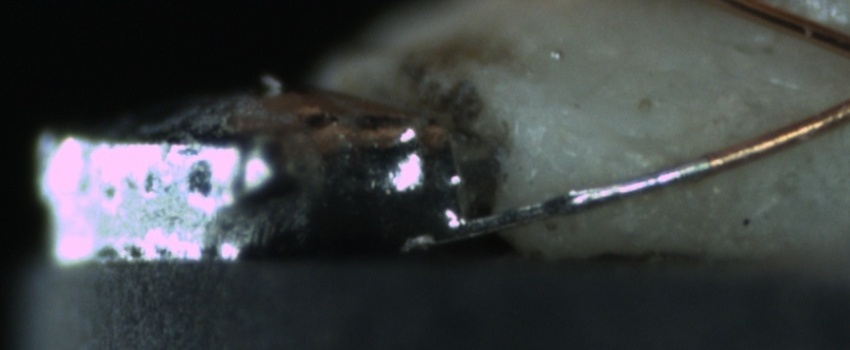TS: (424, 152, 702, 237)
TTCW: (416, 134, 727, 239)
